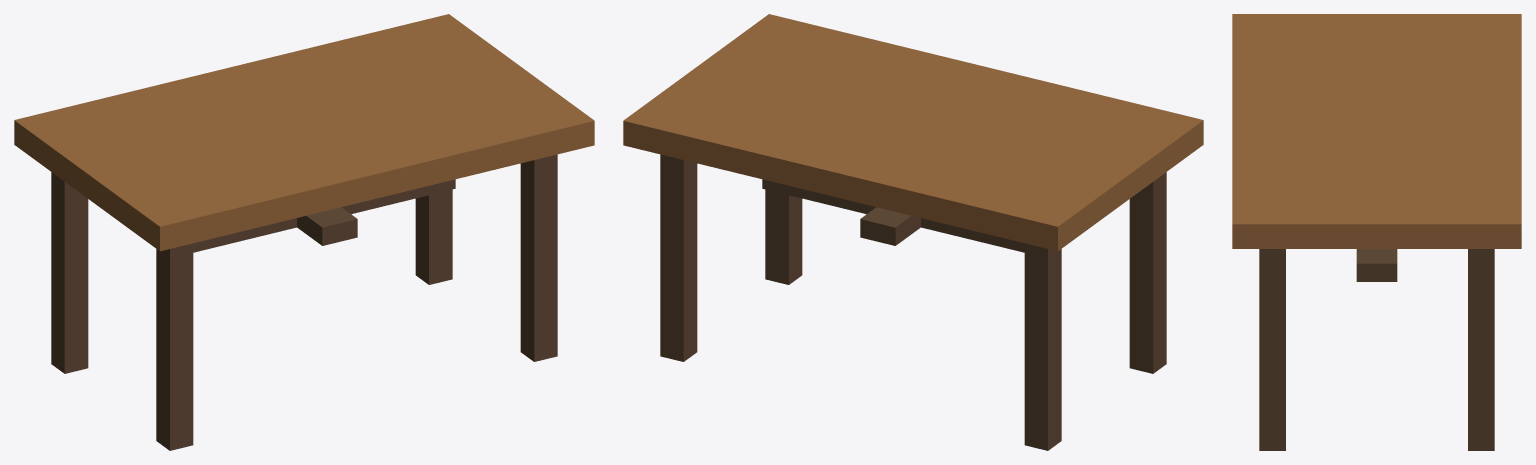
The model's file is table.glb.
The picture shows the model from 3 angles, left to right: view 1: azimuth 30°, elevation 25°; view 2: azimuth 150°, elevation 25°; view 3: azimuth 270°, elevation 25°; orthographic projection.
Bounding box in the file's own units: 1.48 × 0.78 × 0.86.
